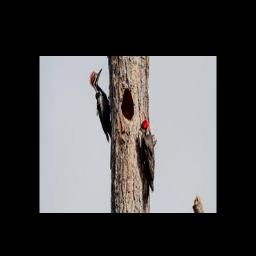Woodpecker: (89, 67, 111, 142), (138, 120, 155, 212)
